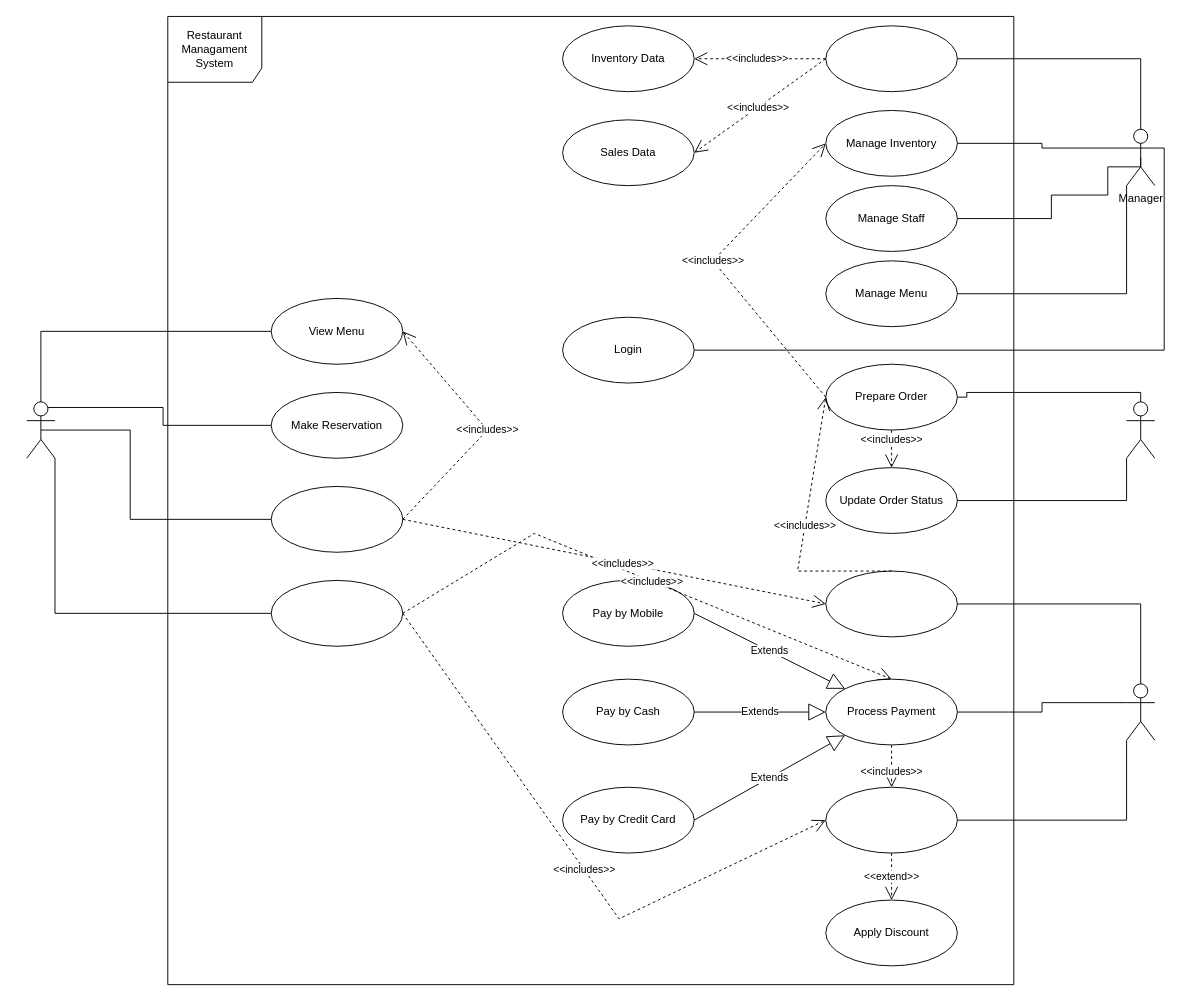
Some shapes in this 1182 by 1001 pixel diagram are drawn without their labels. The centre of each missing label's shape, as x and y in pixels:
"Chef" goes at (x=1140, y=429).
"Customer" goes at (x=40, y=429).
"Generate Bill" goes at (x=891, y=819).
"Generate Reports" goes at (x=891, y=58).
"Pay Bill" goes at (x=336, y=613).
"Place Order" goes at (x=336, y=519).
"Process Order" goes at (x=891, y=603).
"Waiter" goes at (x=1140, y=711).
